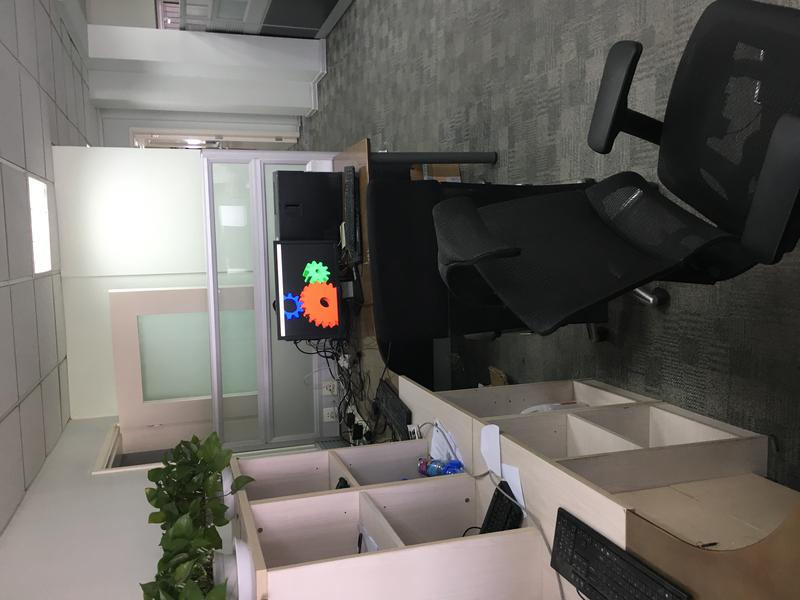glxgears_pass: (280, 254, 339, 335)
